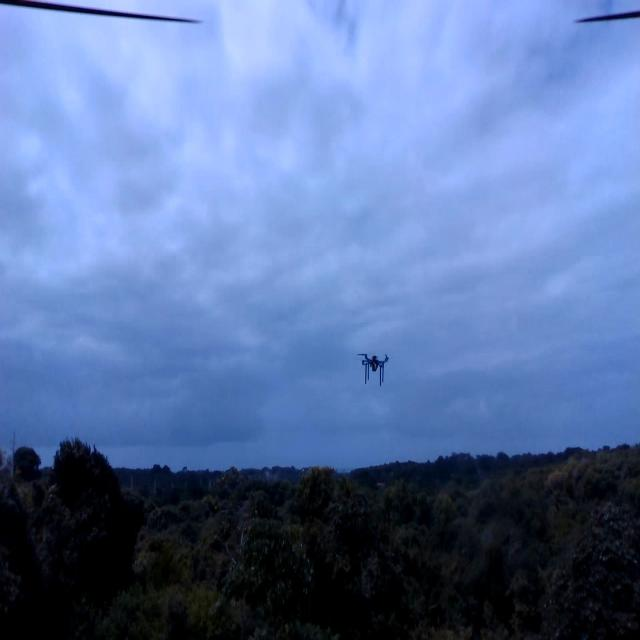-uav-: (352, 340, 392, 394)
